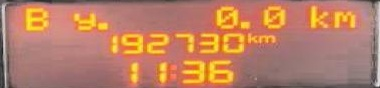0: (214, 4, 238, 28), (262, 5, 285, 27), (221, 32, 245, 52)
1: (125, 60, 141, 84), (152, 60, 165, 83), (107, 33, 120, 53)
2: (144, 32, 167, 53)
3: (180, 59, 204, 85), (197, 32, 217, 53)
6: (208, 58, 235, 83)
7: (171, 31, 195, 53)
9: (121, 32, 140, 54)
X: (21, 5, 47, 31), (307, 3, 329, 28), (70, 11, 94, 30), (333, 9, 355, 27), (167, 61, 178, 80), (256, 34, 275, 43), (245, 30, 256, 42), (94, 21, 108, 30), (238, 19, 249, 28)
